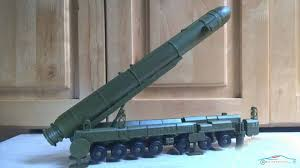ten_lua: (40, 1, 226, 144)
